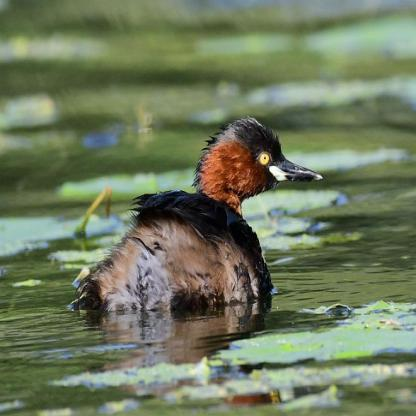Burung: (73, 116, 322, 317)
